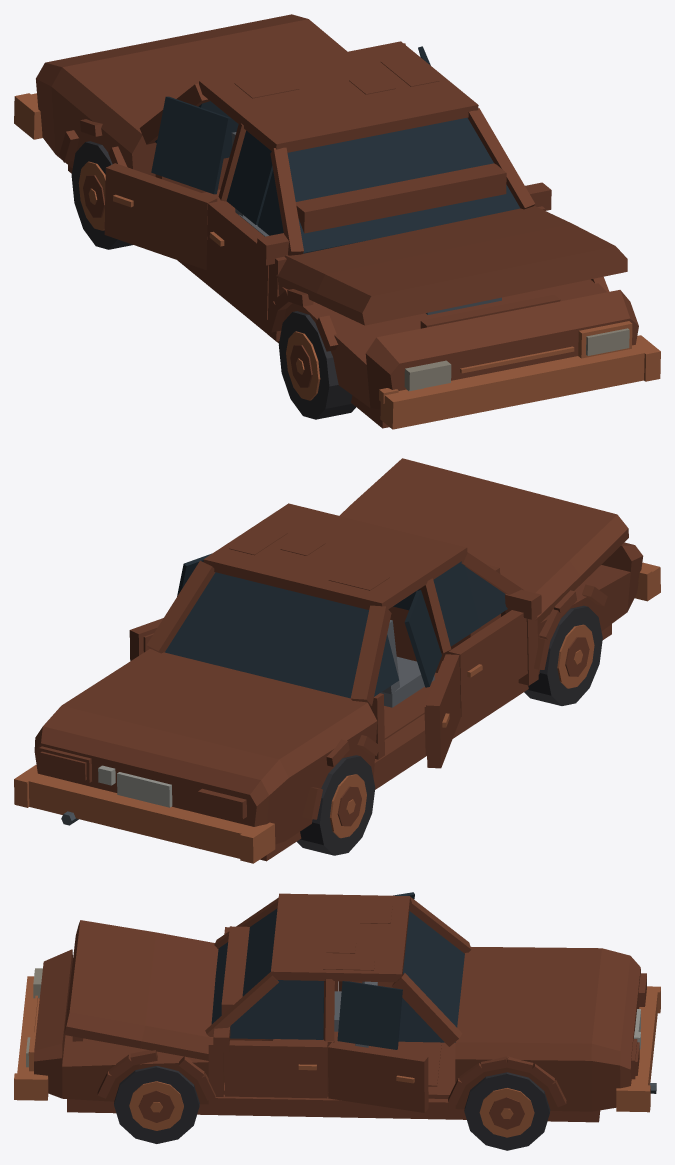
The model's file is GV_Sedan_Damaged_01.glb.
The picture shows the model from 3 angles, top to bottom: view 1: azimuth 30°, elevation 25°; view 2: azimuth 150°, elevation 25°; view 3: azimuth 270°, elevation 25°; orthographic projection. The views are drawn at different scales.
Parts seen in each view (by area): view 1: GV_Sedan_Damaged_01, Hood, Trunk, Door_RR, Door_FR, Wheel_FR, Wheel_RR; view 2: GV_Sedan_Damaged_01, Hood, Trunk, Door_FR, Door_RR, Wheel_RR, Wheel_FR, Door_RL; view 3: GV_Sedan_Damaged_01, Hood, Trunk, Door_RL, Door_FL, Wheel_RL, Wheel_FL.
Boxes of the visible parts, box(x1,y1,x2,y2) form: GV_Sedan_Damaged_01: box(14, 14, 660, 429); Hood: box(276, 206, 627, 325); Trunk: box(51, 19, 347, 162); Door_RR: box(104, 96, 231, 269); Door_FR: box(206, 130, 288, 319); Wheel_FR: box(278, 311, 355, 419); Wheel_RR: box(71, 141, 132, 249); GV_Sedan_Damaged_01: box(14, 503, 660, 863); Hood: box(339, 458, 628, 625); Trunk: box(62, 649, 377, 785); Door_FR: box(433, 561, 541, 716); Door_RR: box(404, 590, 460, 768); Wheel_RR: box(297, 755, 375, 855); Wheel_FR: box(524, 605, 602, 705); Door_RL: box(129, 553, 211, 660); GV_Sedan_Damaged_01: box(14, 893, 660, 1122); Hood: box(64, 920, 218, 1060); Trunk: box(455, 947, 601, 1066); Door_RL: box(328, 981, 428, 1112); Door_FL: box(213, 980, 327, 1098); Wheel_RL: box(464, 1072, 550, 1150); Wheel_FL: box(114, 1065, 199, 1143).
Size of the model in its own units: 2.35 by 1.42 by 4.98.
Materials: 1 (1 with a texture image).
